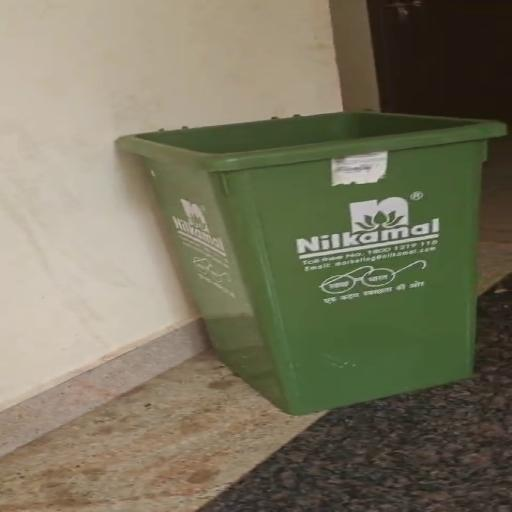Nilkamal-dustbin-detection: (119, 112, 505, 413)
